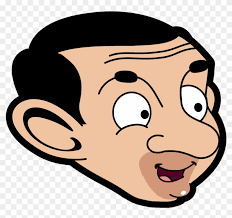mrbean: (6, 14, 222, 204)
